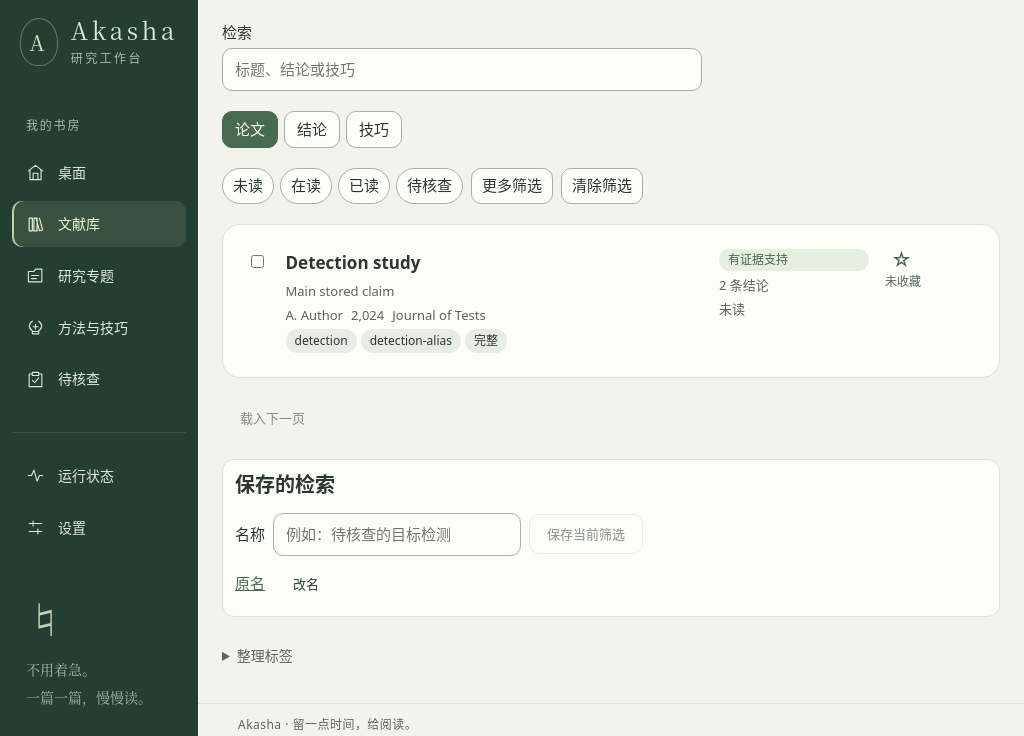
Test: UX-044 saved searches and tag actions recover from conflicts › keeps BOTH copies when a rename conflicts
(page scrolled)
Click the button "改名" at (306, 584), box x1=275 y1=564 x2=337 y2=604
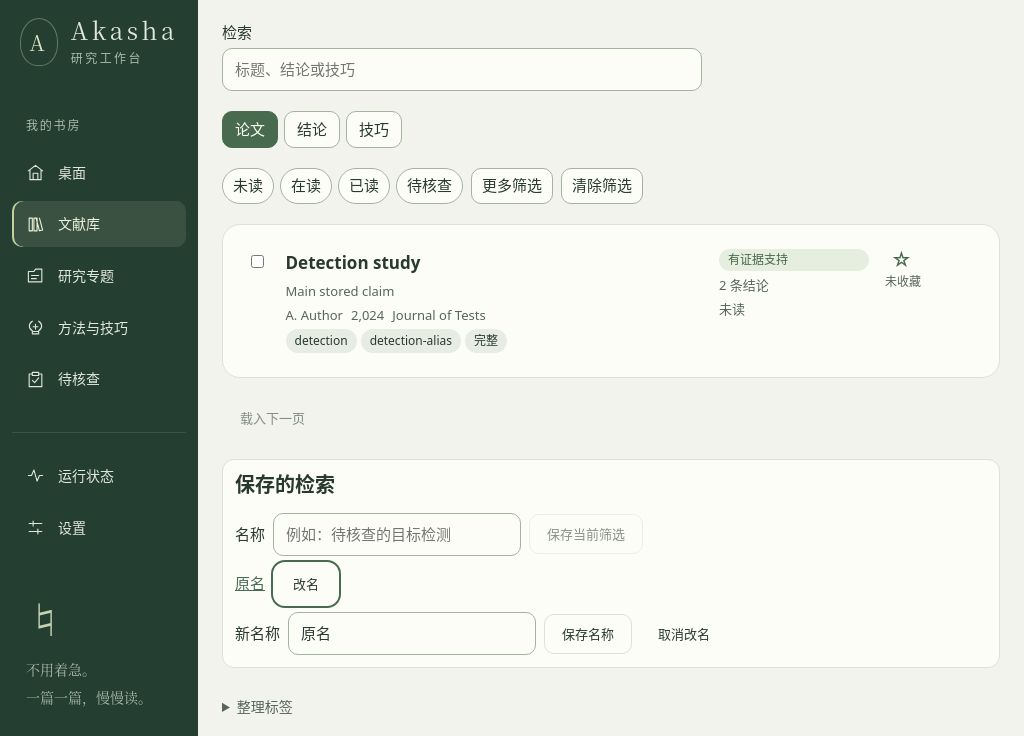
Replace the text in the field labelled "新名称" with "新的检索名称" at (412, 634), box x1=288 y1=612 x2=536 y2=655
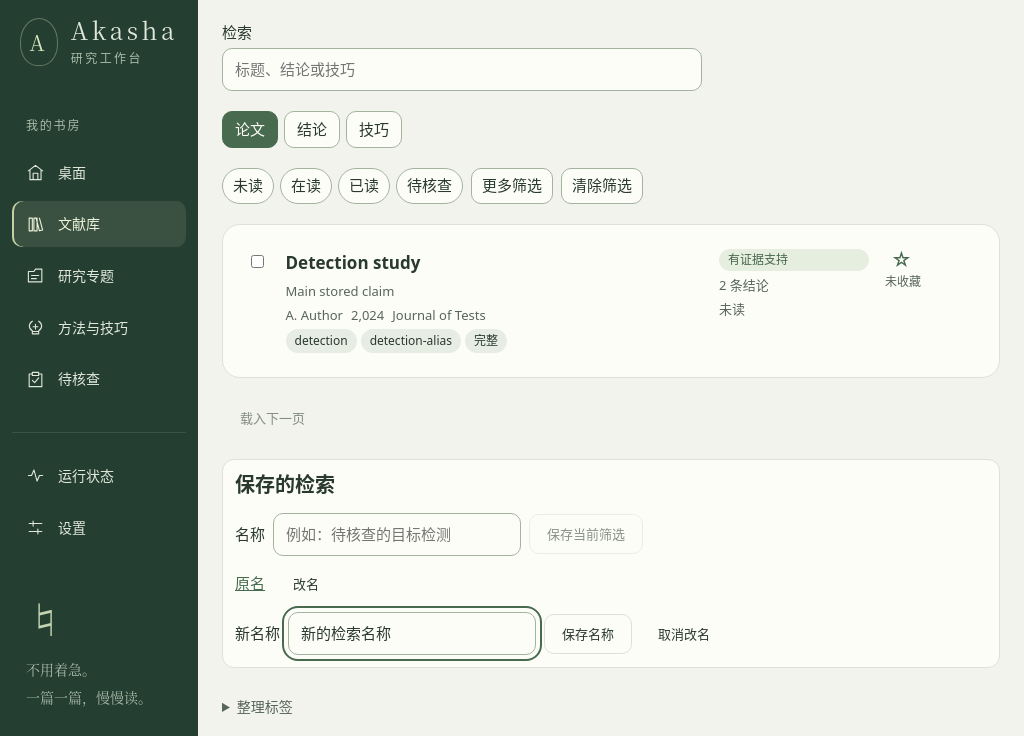
Click the button "保存名称" at (588, 634), box x1=544 y1=614 x2=632 y2=654
(page scrolled)
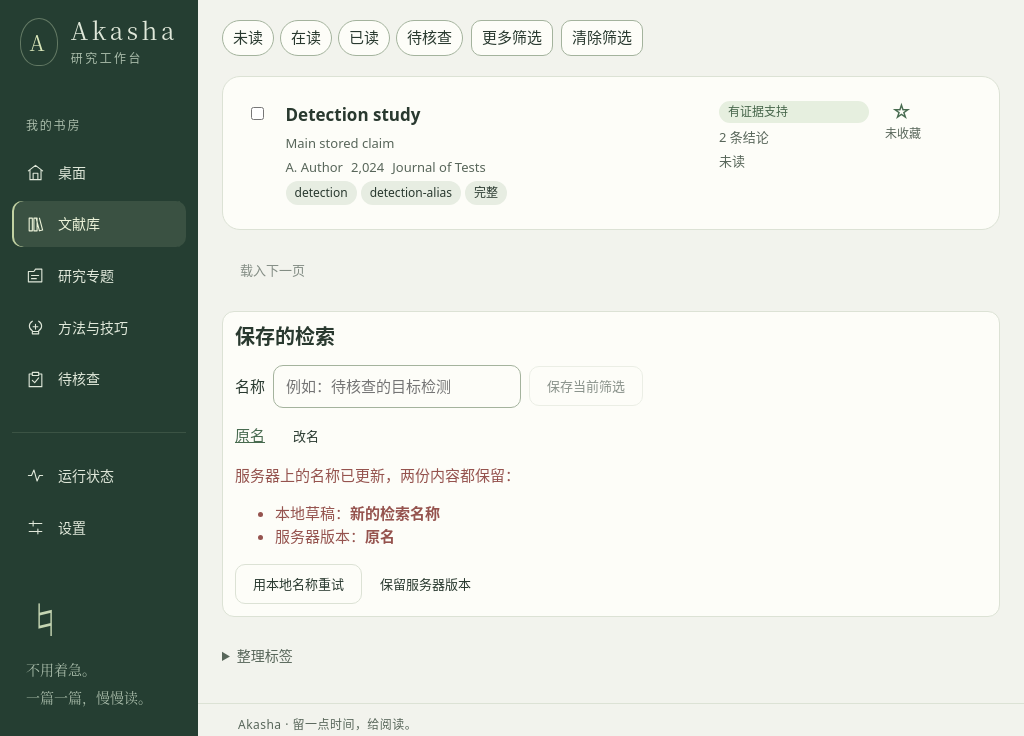
expect the message with test id "saved-conflict" shows "两份内容都保留": met, box x1=235 y1=465 x2=520 y2=485
expect the message with test id "saved-conflict" shows "新的检索名称": met, box x1=350 y1=503 x2=440 y2=523
expect the message with test id "saved-conflict" shows "原名": met, box x1=365 y1=526 x2=395 y2=546
